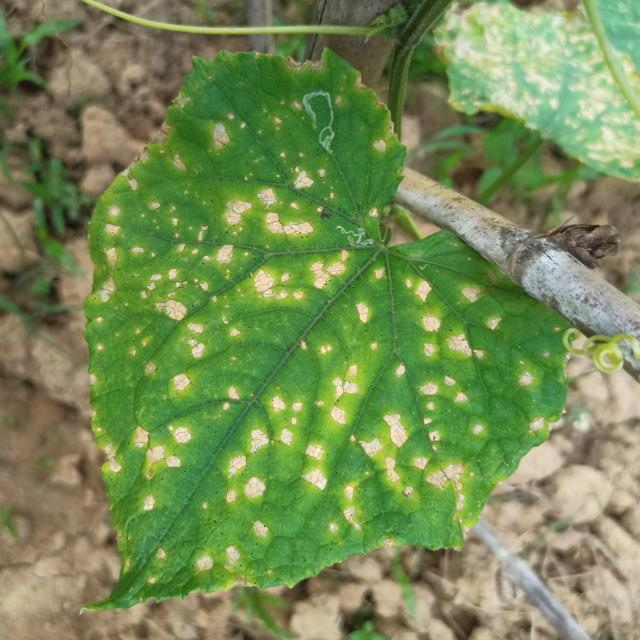disease_cucumber: (88, 81, 541, 584)
